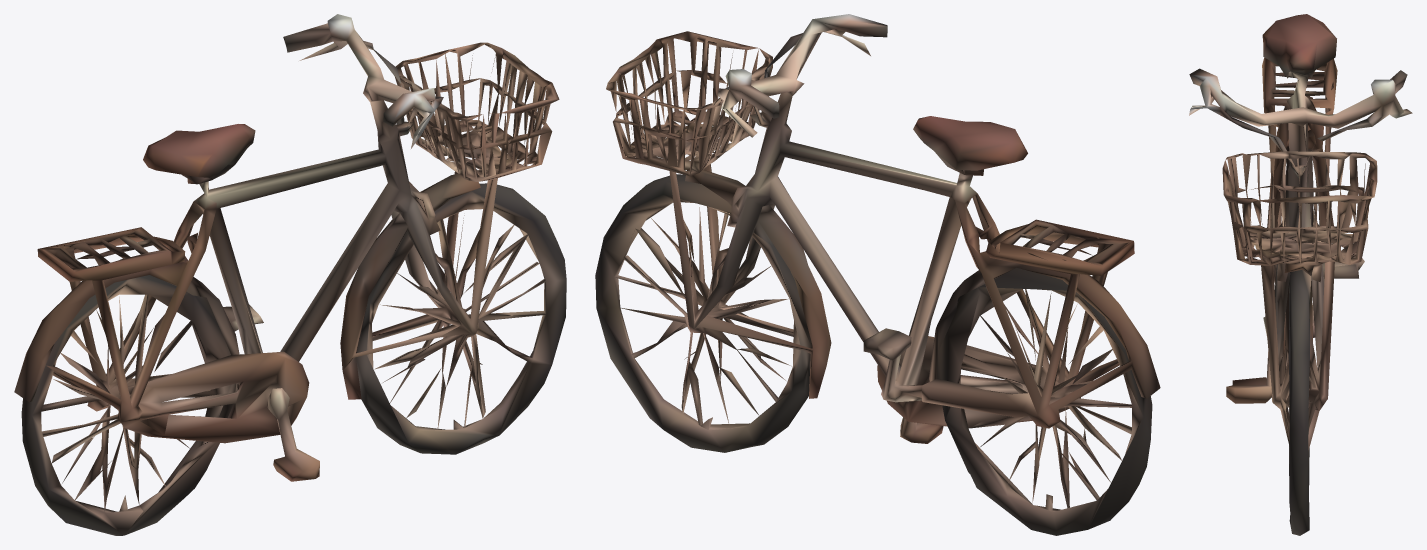
The model's file is bike_old.glb.
3 views of the same model, side by side, from view 1: azimuth 30°, elevation 25°; view 2: azimuth 150°, elevation 25°; view 3: azimuth 270°, elevation 25° (orthographic). The views are drawn at different scales.
Parts seen in each view (by area): view 1: world; view 2: world; view 3: world.
Part boxes in pixels (x1=…): world: x1=14, y1=14, x2=566, y2=535; world: x1=595, y1=14, x2=1160, y2=535; world: x1=1189, y1=14, x2=1412, y2=535.
Bounding box in the file's own units: 1.51 × 1.12 × 0.5524.
